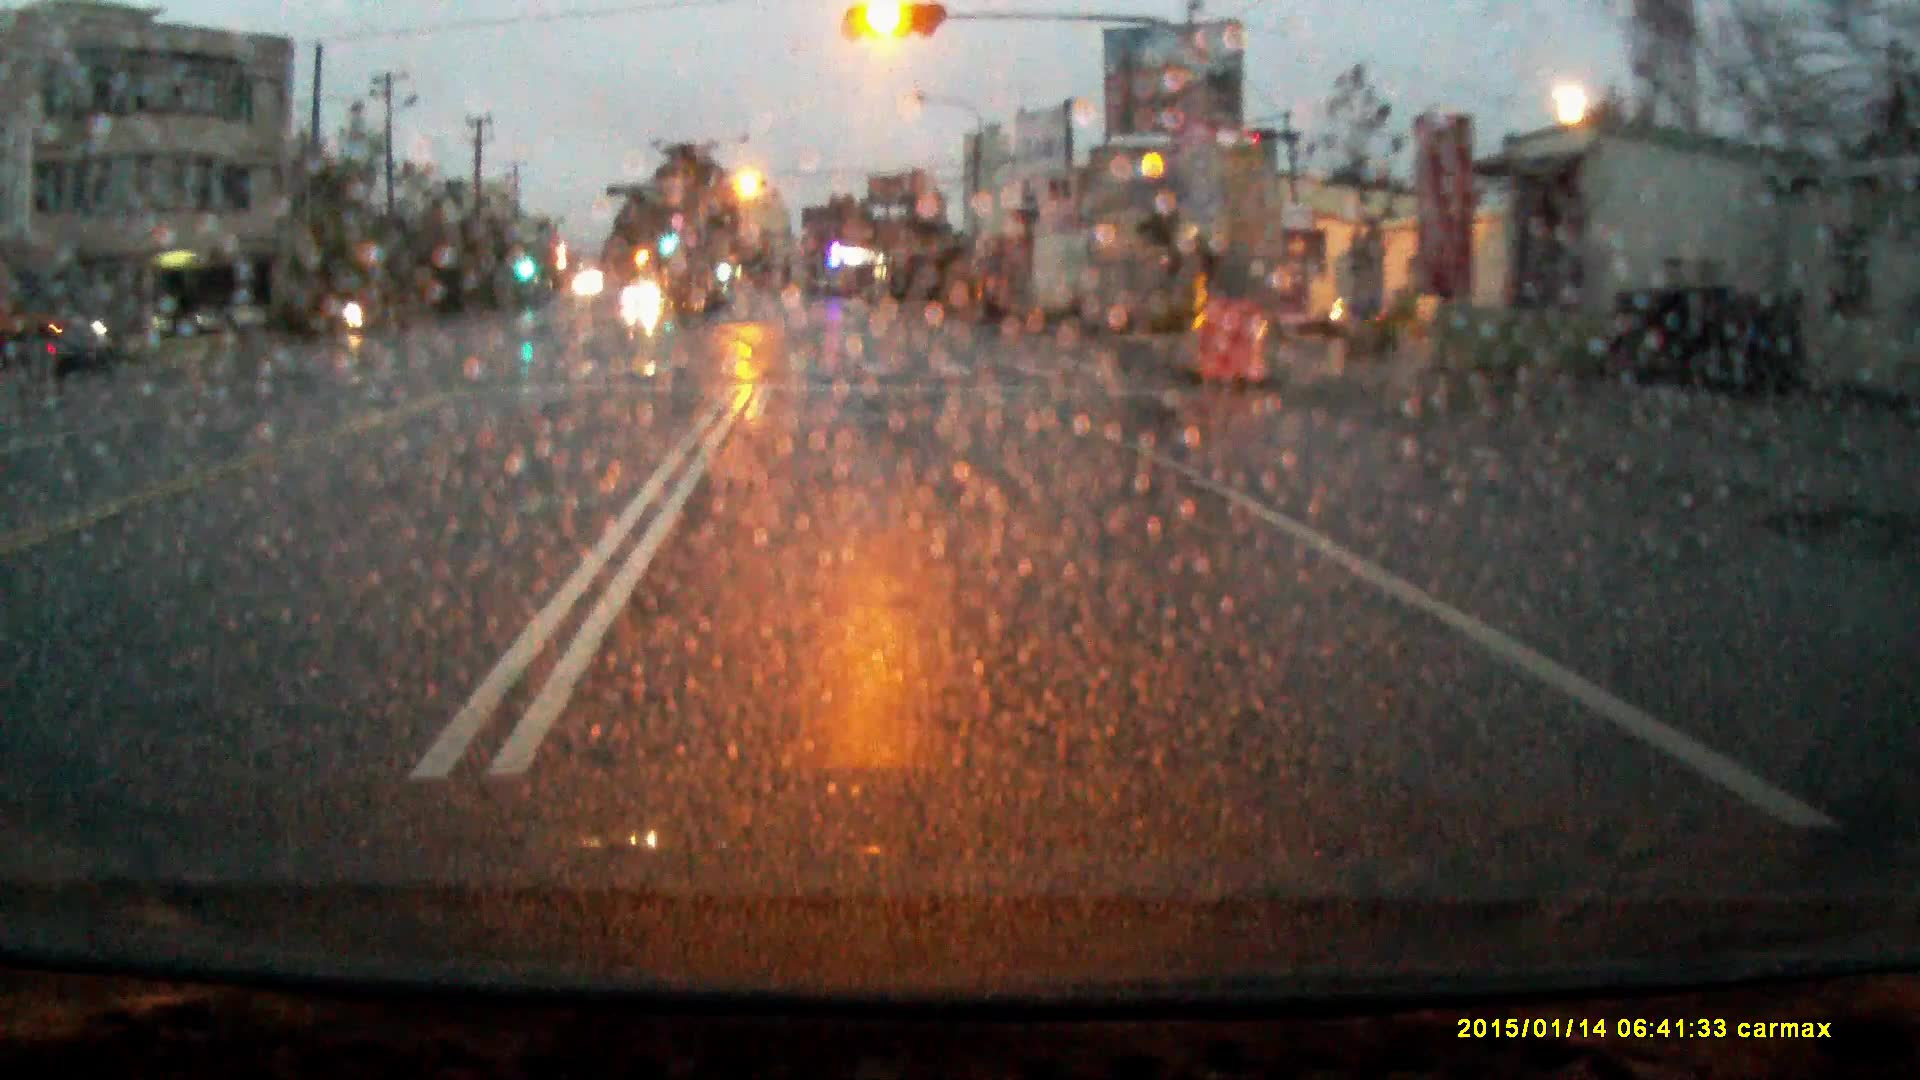rider: (342, 273, 370, 335)
vehicle: (622, 282, 663, 310)
